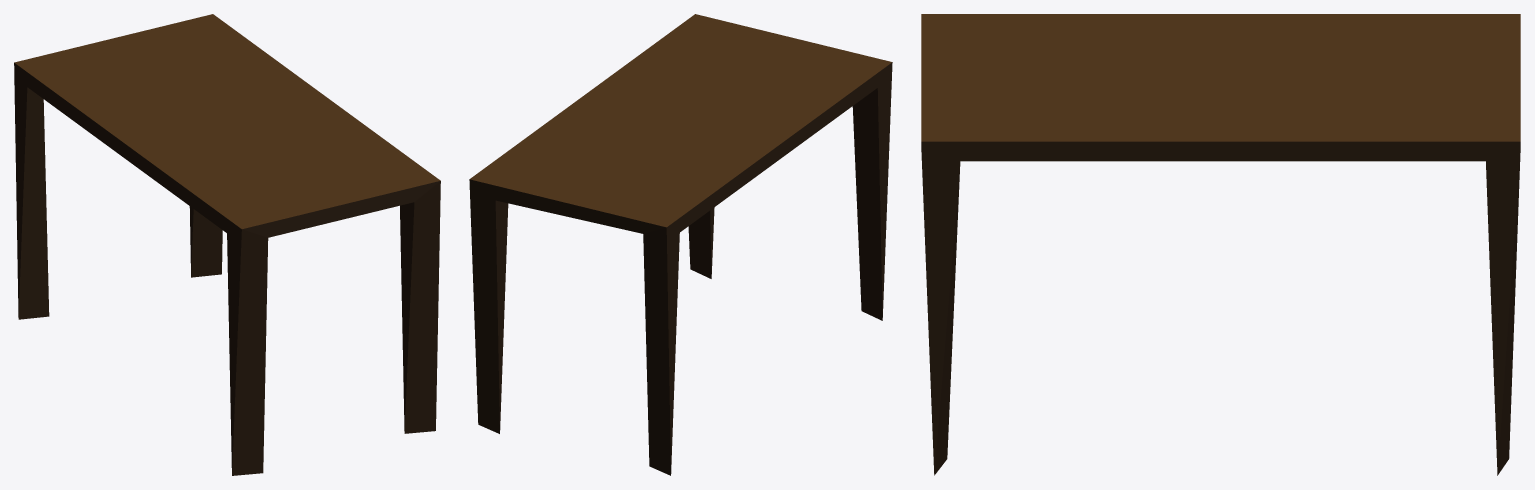
Rendered from Desk.glb.
3 views of the same model, side by side, from view 1: azimuth 30°, elevation 25°; view 2: azimuth 150°, elevation 25°; view 3: azimuth 270°, elevation 25° (orthographic). The views are drawn at different scales.
Parts seen in each view (by area): view 1: Cube; view 2: Cube; view 3: Cube.
Part boxes in pixels (x1,y1,x2,y2): Cube: (14,14,440,475); Cube: (469,14,892,475); Cube: (921,14,1520,475).
Size of what is drawn, in the model's own units: 1.13 by 1.37 by 2.23.
1 material, 1 textured.
